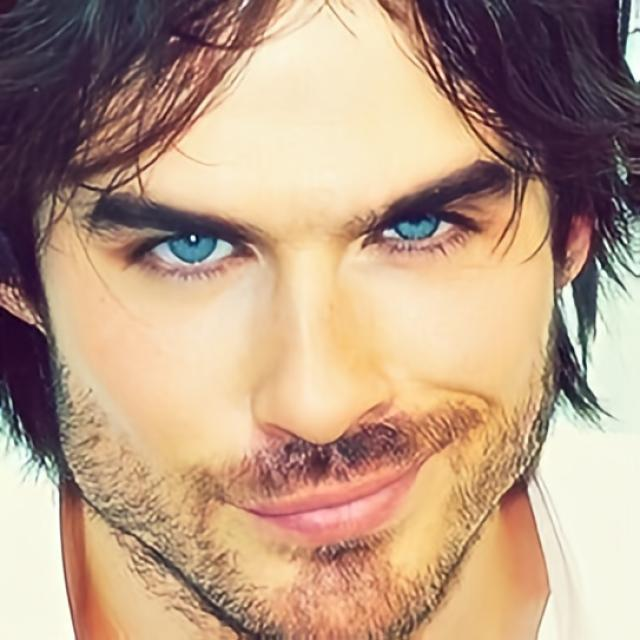content: (33, 0, 562, 640)
